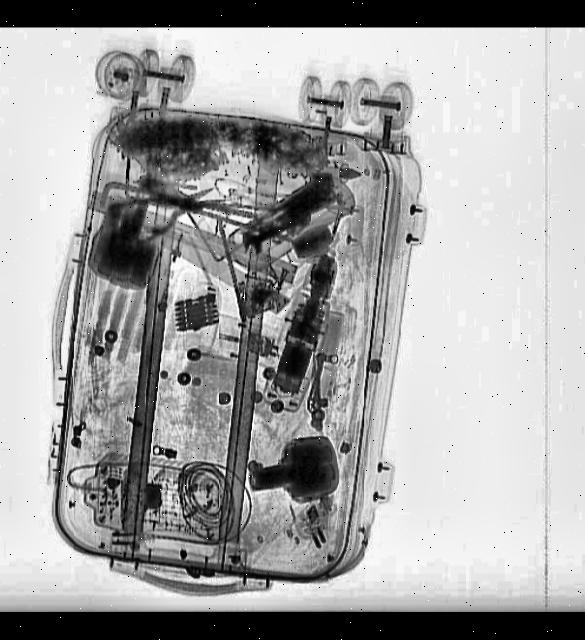Pliers: (129, 167, 228, 244)
